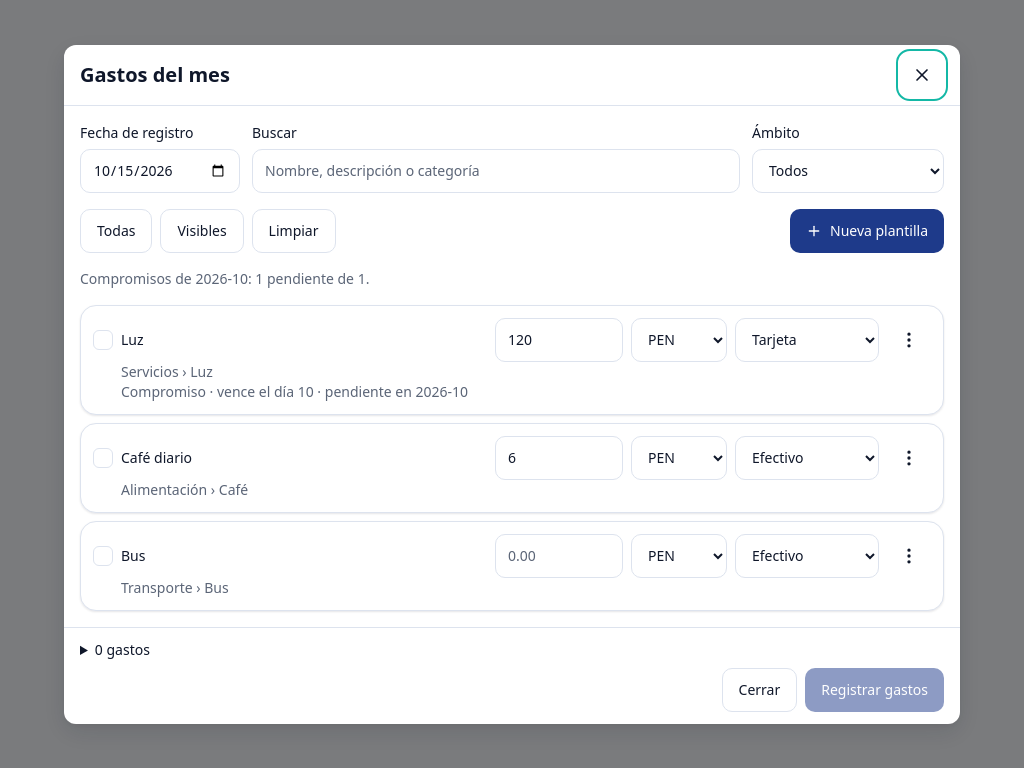
Gastos del mes · lectura y selección › filtra por ámbito
Select "Hogar" in the dropdown named "Filtrar por ámbito": {"x": 848, "y": 170} [752,148,944,192]
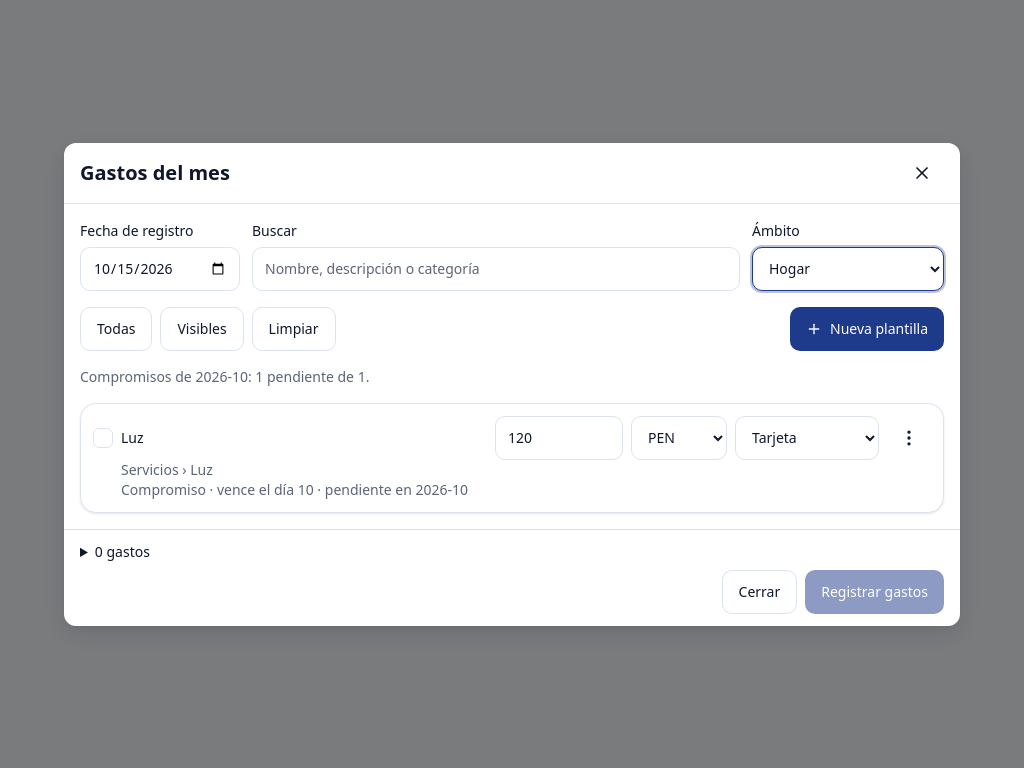
Expected: the checkbox labelled "Luz" is shown, [93,428,144,448]
Result: the text "Café diario" is gone
